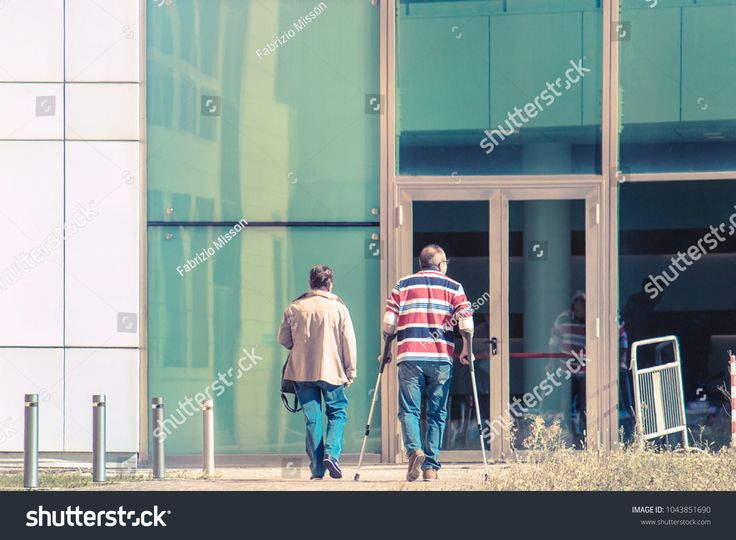crutches: (351, 242, 491, 481)
